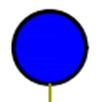blue_circle: (9, 6, 92, 92)
